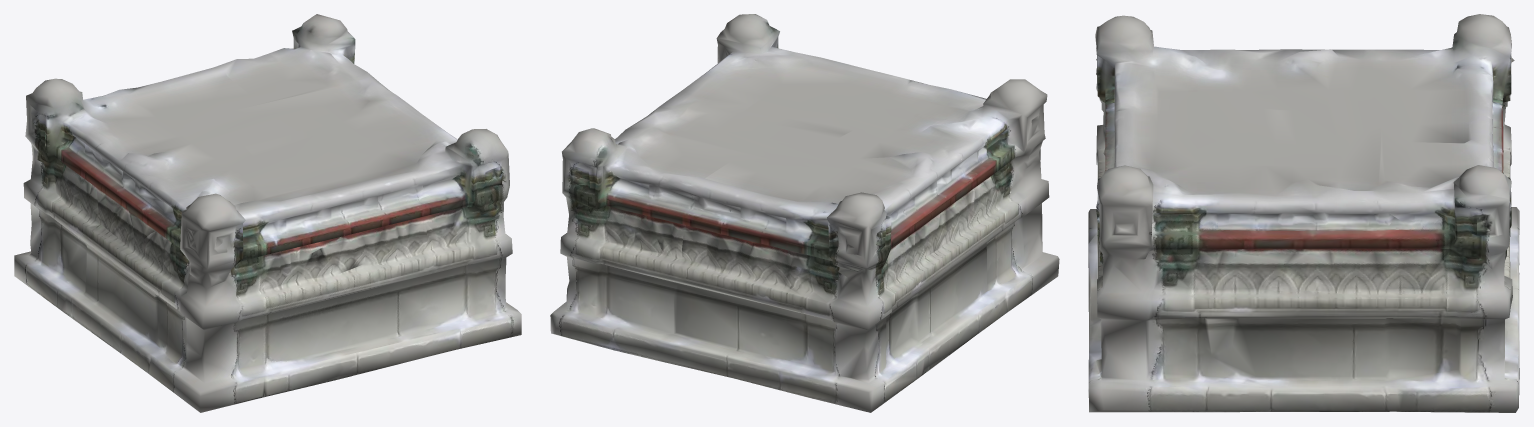
Rendered from SM_Tripo_FrostPlatformBlock.glb.
The picture shows the model from 3 angles, left to right: view 1: azimuth 30°, elevation 25°; view 2: azimuth 150°, elevation 25°; view 3: azimuth 270°, elevation 25°; orthographic projection. The views are drawn at different scales.
Parts seen in each view (by area): view 1: SM_Tripo_FrostPlatformBlock_LOD0; view 2: SM_Tripo_FrostPlatformBlock_LOD0; view 3: SM_Tripo_FrostPlatformBlock_LOD0.
Part boxes in pixels (x1=…): SM_Tripo_FrostPlatformBlock_LOD0: x1=14, y1=14, x2=521, y2=412; SM_Tripo_FrostPlatformBlock_LOD0: x1=550, y1=14, x2=1059, y2=412; SM_Tripo_FrostPlatformBlock_LOD0: x1=1088, y1=14, x2=1519, y2=412.
Size of the model in its own units: 4.94 by 2.93 by 4.97.
1 material, 1 textured.
